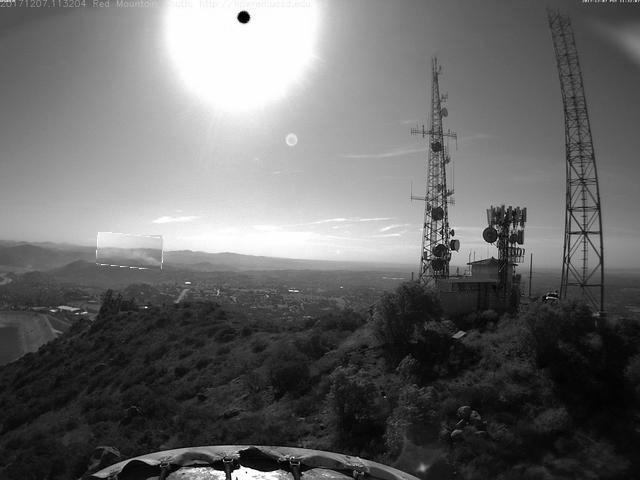smoke: (98, 235, 165, 270)
